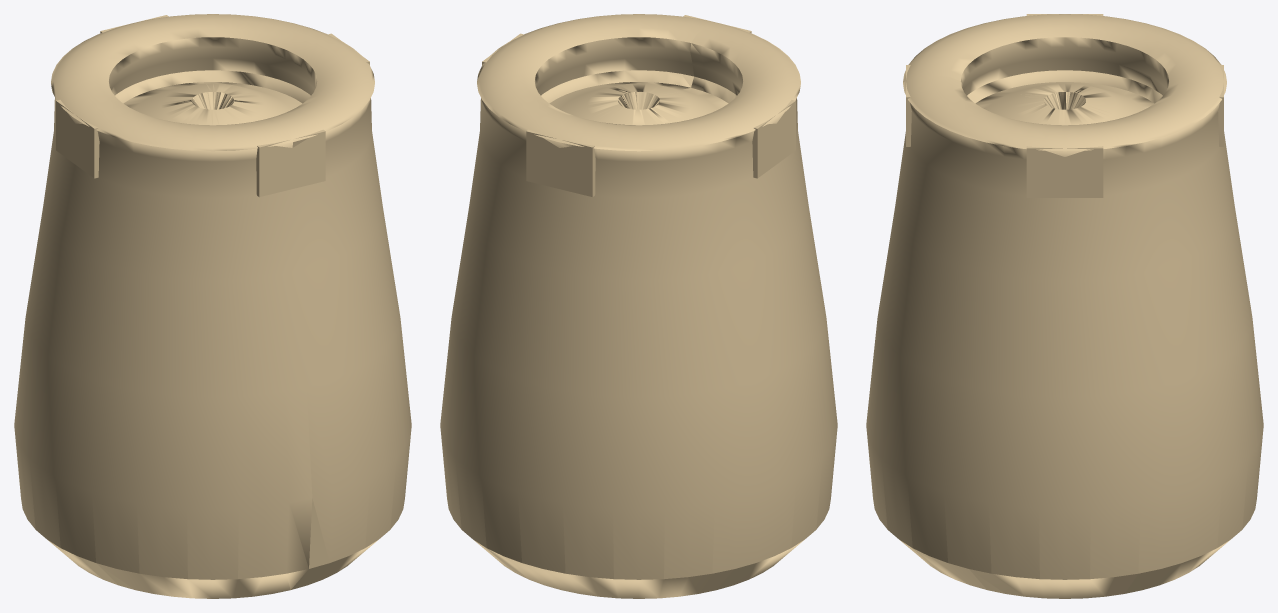
Rendered from stackable-sand-castle.glb.
The picture shows the model from 3 angles, left to right: view 1: azimuth 30°, elevation 25°; view 2: azimuth 150°, elevation 25°; view 3: azimuth 270°, elevation 25°; orthographic projection.
Visible parts, largest first — view 1: Turret Keep, Battlement North, Battlement West; view 2: Turret Keep, Battlement South, Battlement West; view 3: Turret Keep, Battlement East.
Boxes of the visible parts, box(x1,y1,x2,y2) form: Turret Keep: box(14, 14, 411, 598); Battlement North: box(256, 129, 325, 197); Battlement West: box(56, 100, 99, 178); Turret Keep: box(440, 14, 837, 598); Battlement South: box(526, 129, 595, 197); Battlement West: box(752, 100, 795, 178); Turret Keep: box(866, 14, 1263, 598); Battlement East: box(1026, 146, 1103, 197).
Bounding box in the file's own units: 0.145 × 0.189 × 0.145.
